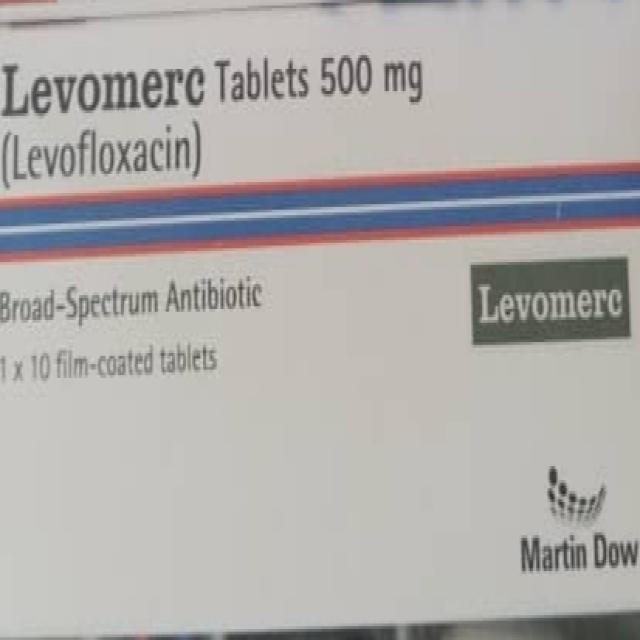drug-name: (477, 284, 624, 329)
